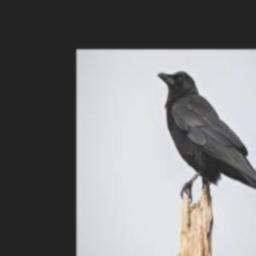Crow: (155, 70, 256, 200)
